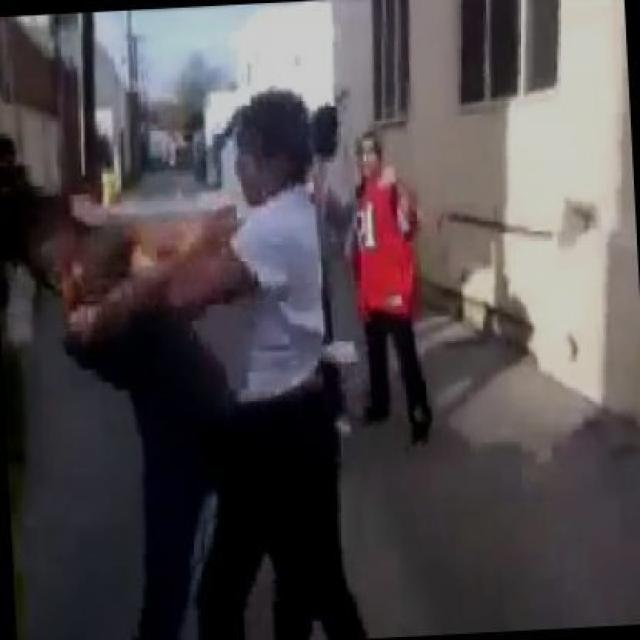fight: (0, 64, 369, 640)
non-fight: (289, 89, 429, 446)
